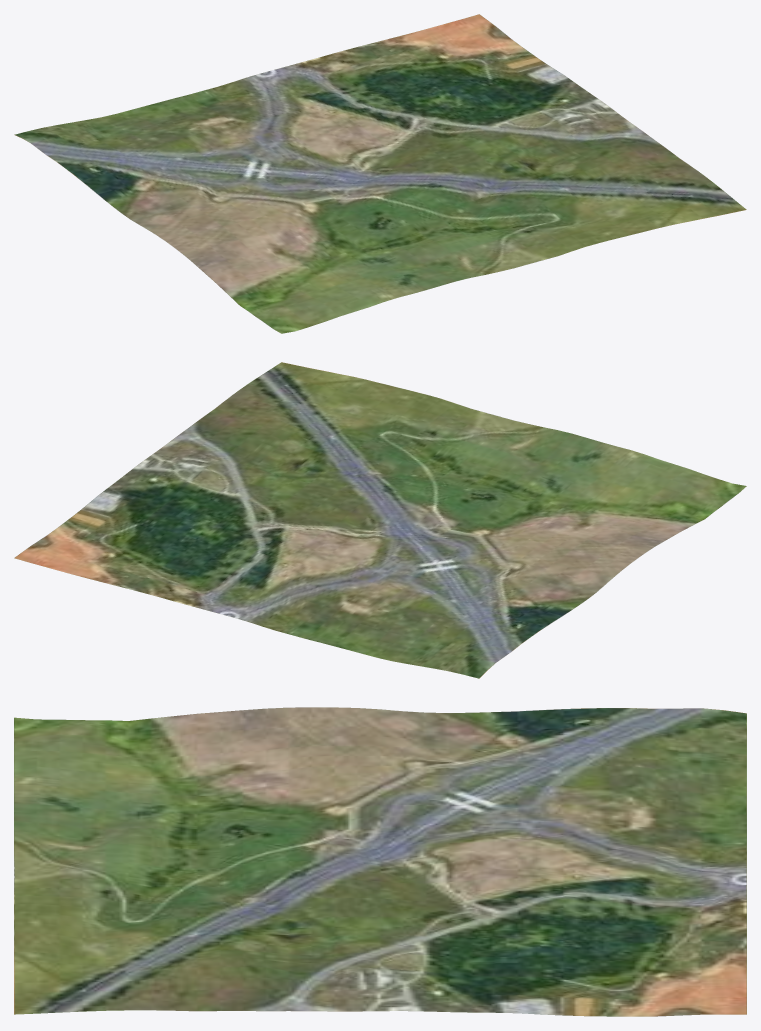
3 views of the same model, one above another, from view 1: azimuth 30°, elevation 25°; view 2: azimuth 150°, elevation 25°; view 3: azimuth 270°, elevation 25° (orthographic). The views are drawn at different scales.
Bounding box in the file's own units: 975 × 38.43 × 971.
Materials: 1 (1 with a texture image).
